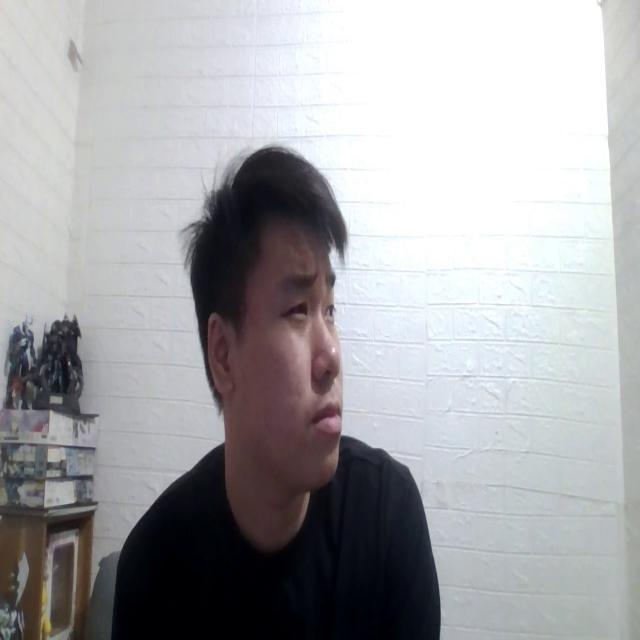student: (117, 139, 439, 640)
